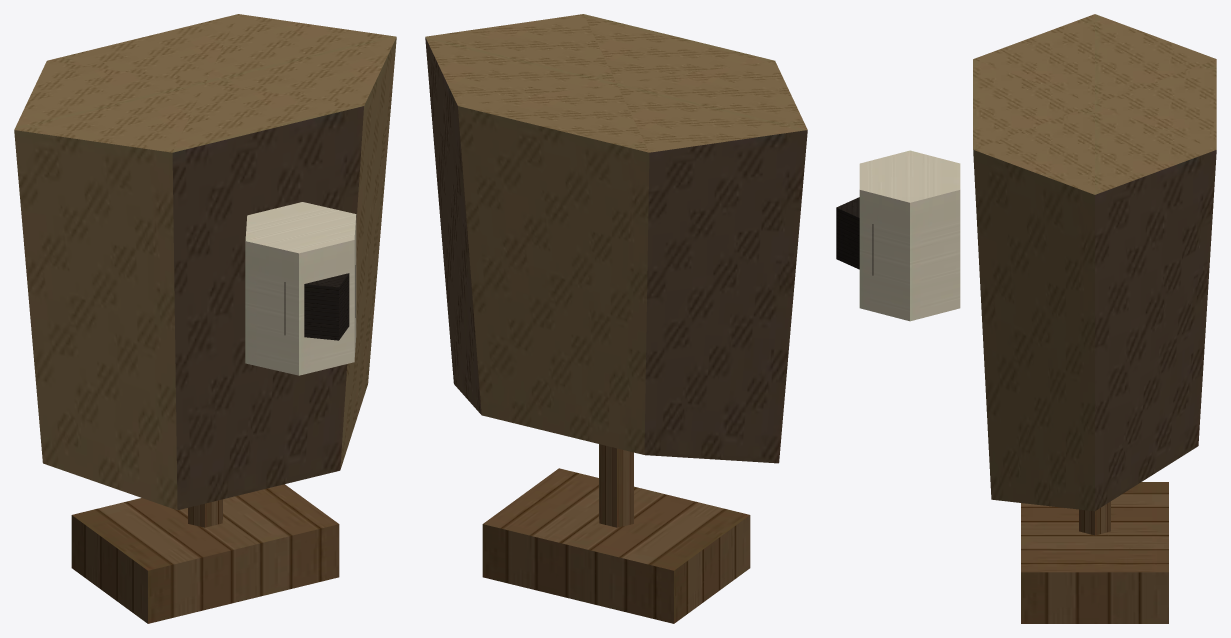
The model's file is ae_raid_trophy_pelt_lod2.glb.
3 renders of one model, left to right at view 1: azimuth 30°, elevation 25°; view 2: azimuth 150°, elevation 25°; view 3: azimuth 270°, elevation 25°, orthographic. The views are drawn at different scales.
Parts seen in each view (by area): view 1: ae_raid_trophy_pelt_lod2; view 2: ae_raid_trophy_pelt_lod2; view 3: ae_raid_trophy_pelt_lod2.
Boxes of the visible parts, box(x1,y1,x2,y2) form: ae_raid_trophy_pelt_lod2: box(14, 14, 396, 623); ae_raid_trophy_pelt_lod2: box(425, 14, 807, 623); ae_raid_trophy_pelt_lod2: box(836, 14, 1216, 623).
Bounding box in the file's own units: 0.9001 × 1.1 × 0.8.
Materials: 1 (1 with a texture image).
